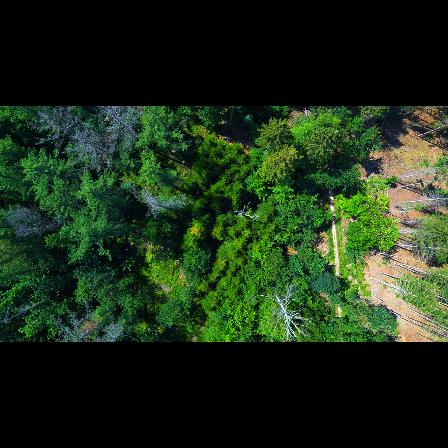Dead: (49, 298, 131, 342), (258, 280, 317, 341), (5, 203, 68, 241), (71, 130, 125, 171), (128, 186, 192, 220), (99, 106, 149, 147), (35, 106, 82, 143), (228, 201, 258, 224)
